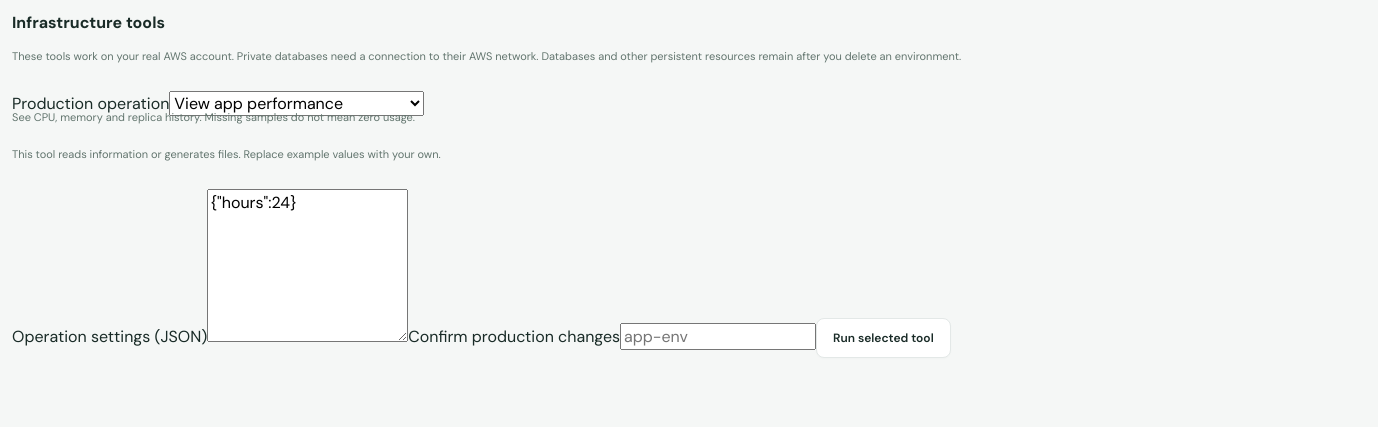
Test case: shows backend failures inside the operation form
Click the button "Run selected tool" at (883, 338), box [816, 318, 951, 358]
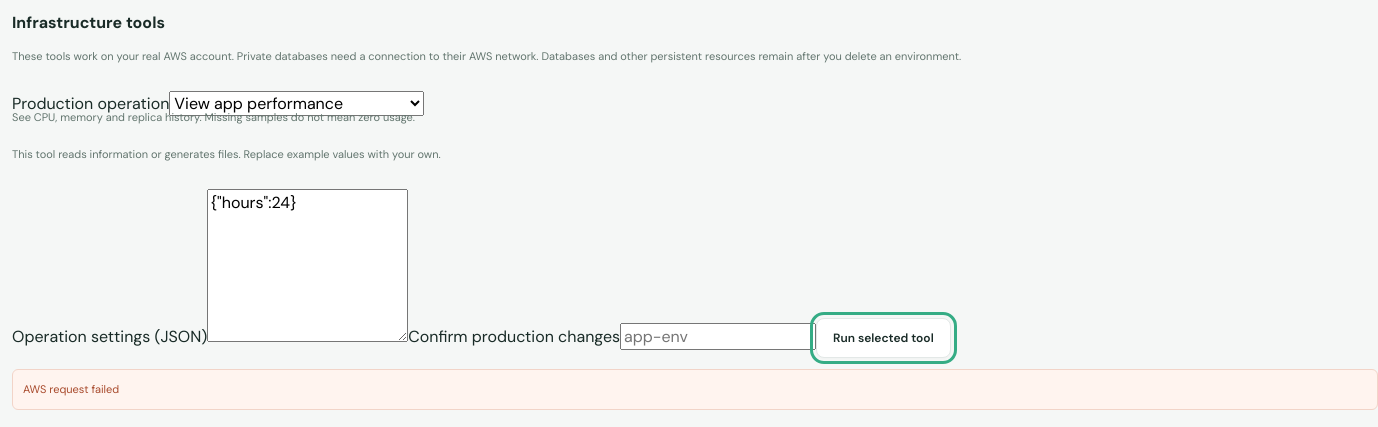
Result: the message reads "AWS request failed" at [23, 382, 119, 396]
